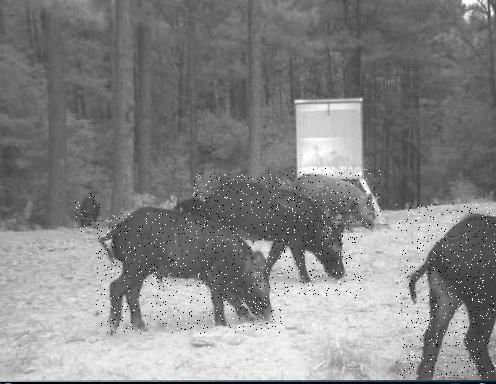Hog: (96, 213, 282, 334), (192, 173, 362, 298), (396, 204, 496, 378), (292, 168, 381, 230), (75, 193, 100, 232)
